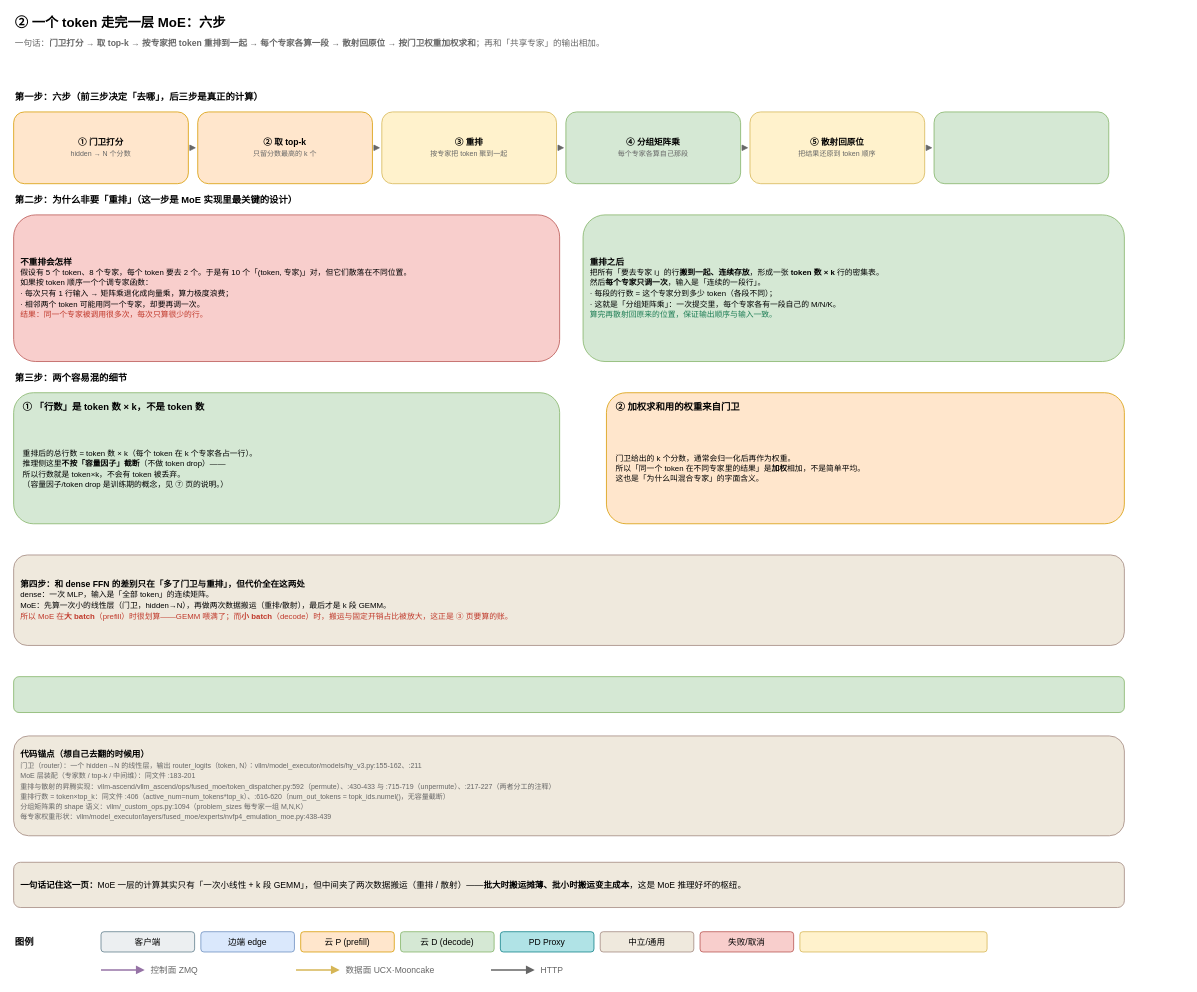
Some shapes in this 1197 by 992 pixel diagram are drawn without their labels. Each missing label, with the box of its shape:
⑥ 加权求和 k 个结果按门卫权重相加: (933, 111, 1109, 184)
数据搬运（重排/散射）: (799, 931, 987, 952)
本页交接：结构清楚了。下一步（③）算三个账——显存、通信、负载，看看 MoE 到底「贵」在哪。: (13, 676, 1124, 713)
